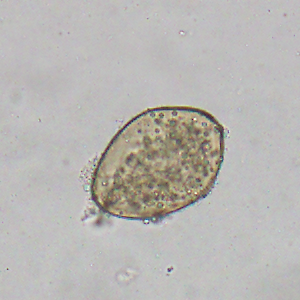Fasciola_hepatica_egg: (89, 104, 224, 221)
